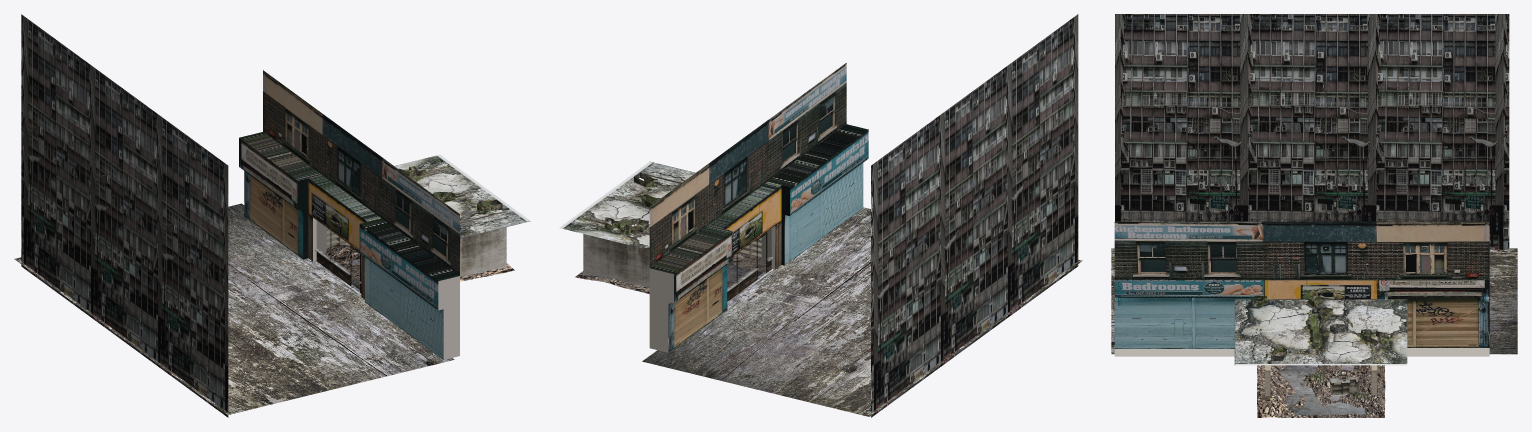
The model's file is hospital.glb.
The picture shows the model from 3 angles, left to right: view 1: azimuth 30°, elevation 25°; view 2: azimuth 150°, elevation 25°; view 3: azimuth 270°, elevation 25°; orthographic projection. The views are drawn at different scales.
Visible parts, largest first — view 1: Plane.038, Plane.037, Plane.036, Plane, Cube, Plane.001; view 2: Plane.038, Plane.037, Plane.036, Plane, Cube, Plane.001; view 3: Plane.038, Plane.037, Plane, Plane.001, Plane.036, Cube, node_0.
Part boxes in pixels (x1,y1,x2,y2): Plane.038: [21, 14, 228, 417]; Plane.037: [239, 70, 459, 359]; Plane.036: [14, 203, 454, 415]; Plane: [394, 155, 530, 238]; Cube: [311, 166, 506, 299]; Plane.001: [324, 244, 514, 281]; Plane.038: [871, 14, 1078, 417]; Plane.037: [649, 63, 868, 352]; Plane.036: [642, 207, 1082, 416]; Plane: [559, 161, 695, 249]; Cube: [583, 173, 778, 301]; Plane.001: [575, 253, 766, 294]; Plane.038: [1115, 14, 1509, 249]; Plane.037: [1114, 221, 1489, 356]; Plane: [1234, 295, 1407, 365]; Plane.001: [1257, 352, 1385, 417]; Plane.036: [1111, 248, 1517, 354]; Cube: [1267, 299, 1378, 415]; node_0: [1329, 370, 1358, 394].
Size of the model in its own units: 30.57 by 20.02 by 30.7.
Materials: 11 (11 with a texture image).
